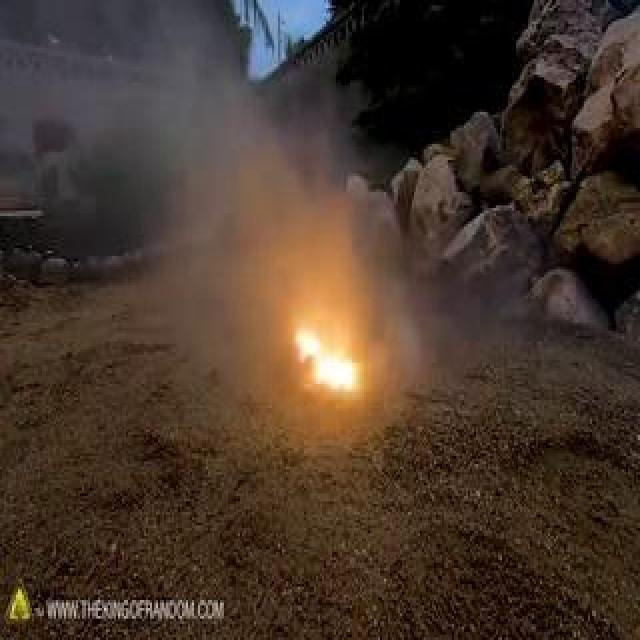Fire: (90, 118, 333, 338)
